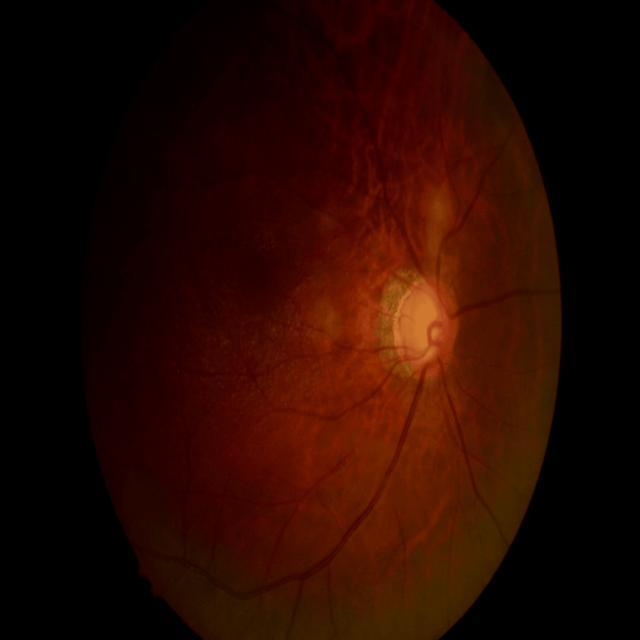cup: (408, 288, 446, 364)
disk: (394, 275, 459, 378)
